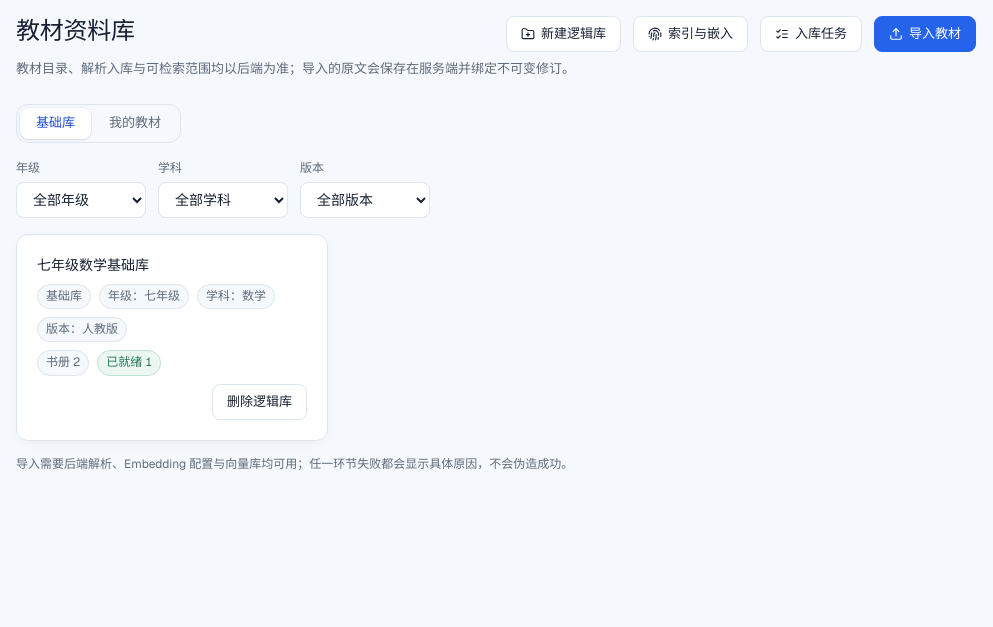
Test case: 教材管理页 · 逻辑库删除 › 卡片二次确认后彻底删除，DELETE 带 expectedRevision，列表刷新后卡片消失
Expected: the link "七年级数学基础库 基础库 年级：七年级 学科：数学 版本：人教版 书册 2 已就绪 1" is shown, [37,255,307,376]
Click the button with test id "textbook-library-delete-lib-base": x=260, y=402 [212,384,307,420]
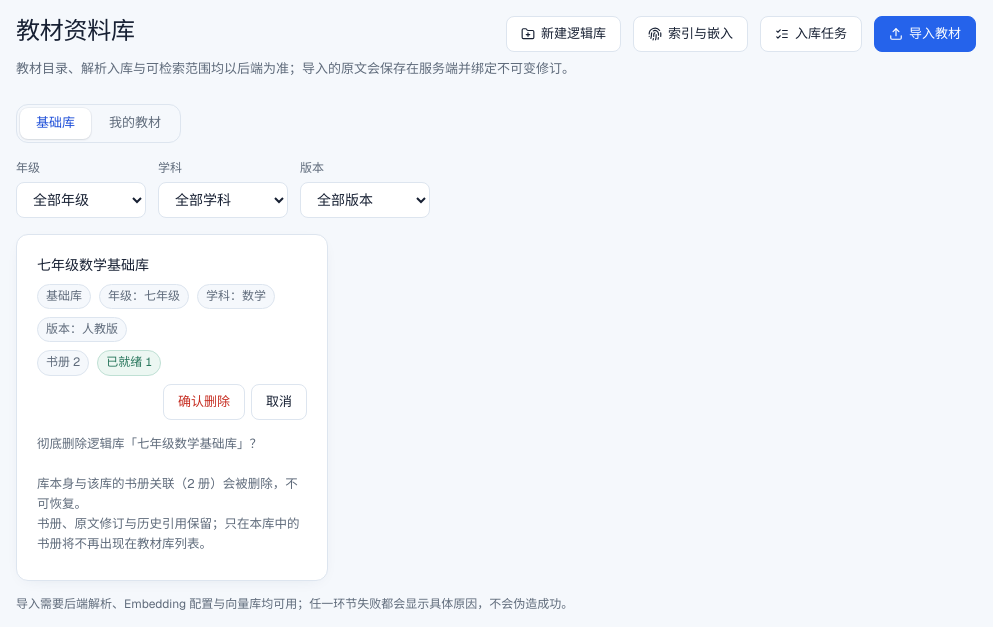
Now the button with test id "textbook-library-confirm-lib-base" is shown
Now the text "彻底删除逻辑库「七年级数学基础库」" is shown, box [37,435,300,552]
Click the button with test id "textbook-library-confirm-lib-base": x=204, y=402 [163,384,245,420]
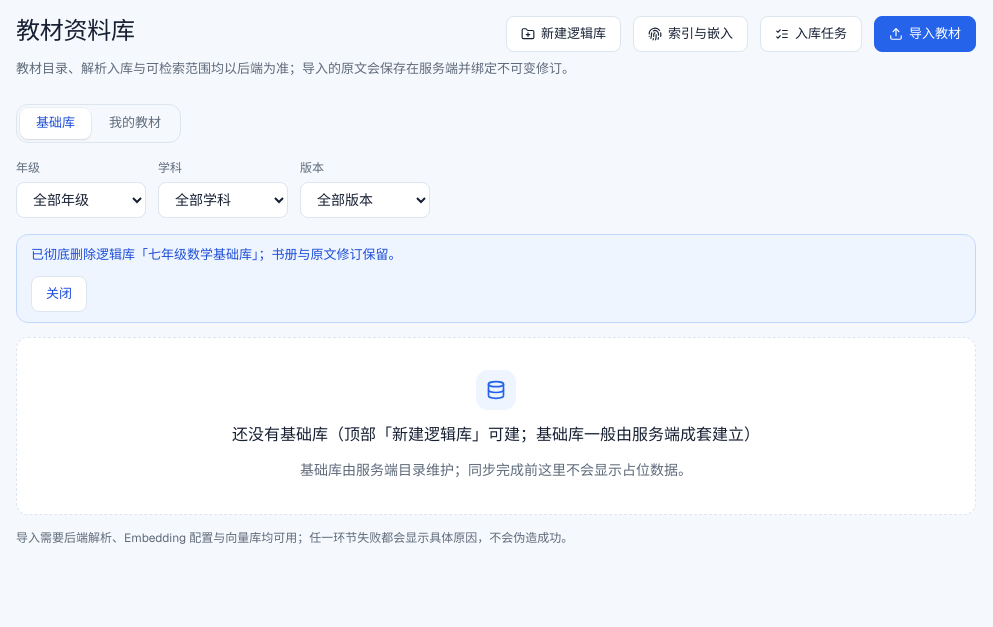
Now the element with test id "textbook-library-card-lib-base" is gone
Now the message with test id "textbook-library-notice" shows "已彻底删除逻辑库", box [31,246,402,263]
